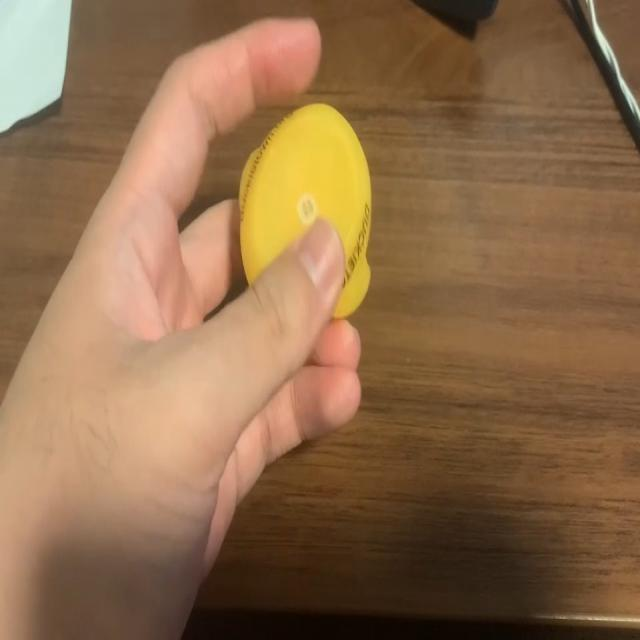rubber-duck: (238, 103, 369, 316)
